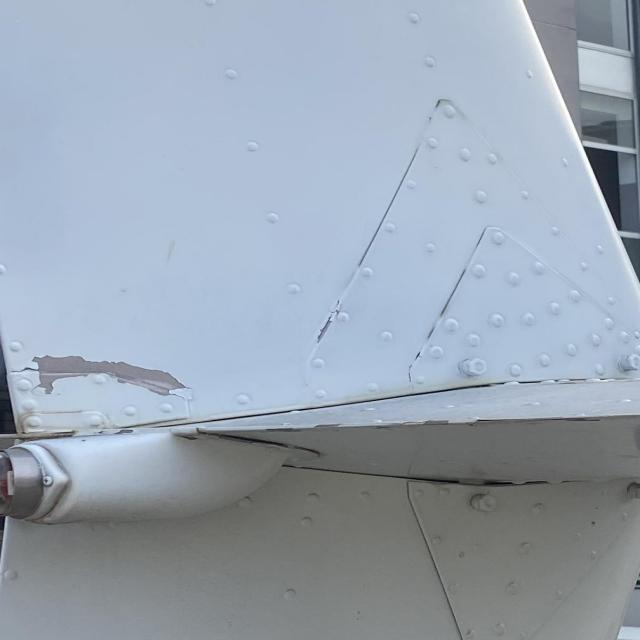Crack: (8, 367, 37, 374)
Paint-off: (32, 355, 184, 397), (310, 314, 338, 349), (115, 428, 136, 435)
